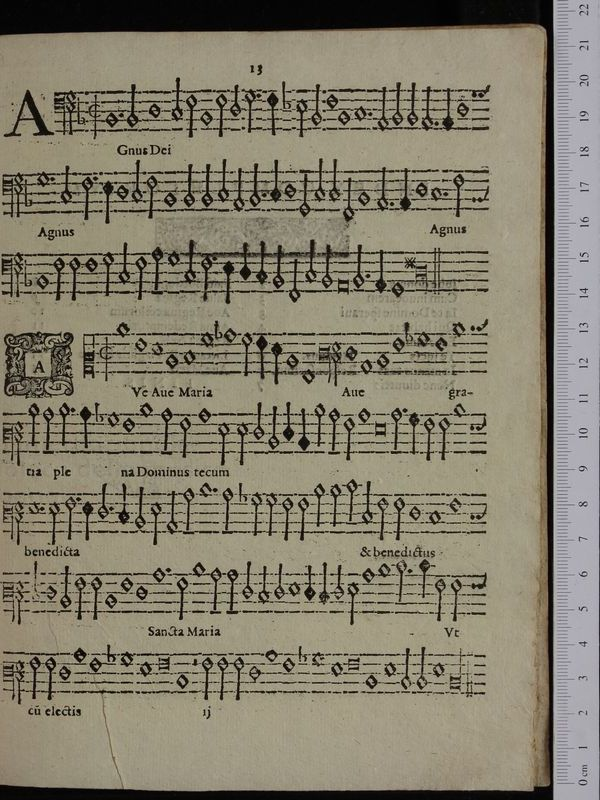breve_6: (370, 417, 391, 442)
custos_6: (466, 412, 490, 440)
f clef_7: (1, 410, 25, 466)
flat_4: (90, 399, 106, 428)
minim_2: (24, 399, 41, 449), (312, 398, 326, 449), (56, 398, 69, 451)
minim_3: (157, 401, 173, 455), (325, 401, 341, 455), (39, 404, 56, 454), (388, 404, 403, 454)
minim_5: (341, 410, 357, 464), (421, 411, 437, 465), (176, 409, 192, 462), (436, 411, 452, 464)
minim_6: (233, 415, 249, 466), (215, 414, 230, 468)
minim_7: (250, 396, 265, 445)
minim_9: (265, 400, 280, 454)
point: (393, 401, 410, 420), (65, 401, 79, 418)
semibreve_2: (135, 394, 155, 425), (450, 397, 468, 423)
semibreve_3: (195, 401, 213, 429), (355, 401, 373, 428)
semibreve_4: (105, 404, 121, 433)
semibreve_5: (120, 410, 137, 438)
semiminim_3: (77, 398, 92, 453)
semiminim_4: (405, 406, 421, 457)
semiminim_7: (281, 396, 296, 447)
semiminim_9: (295, 401, 311, 457)
